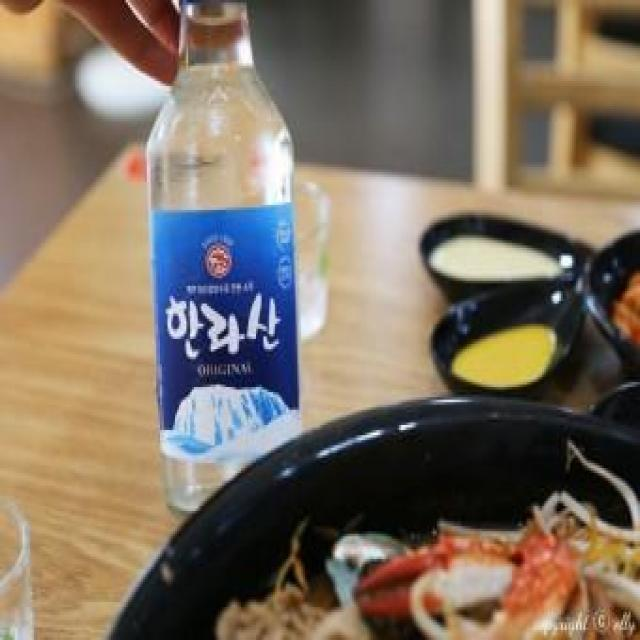soju-bottle: (142, 2, 298, 518)
